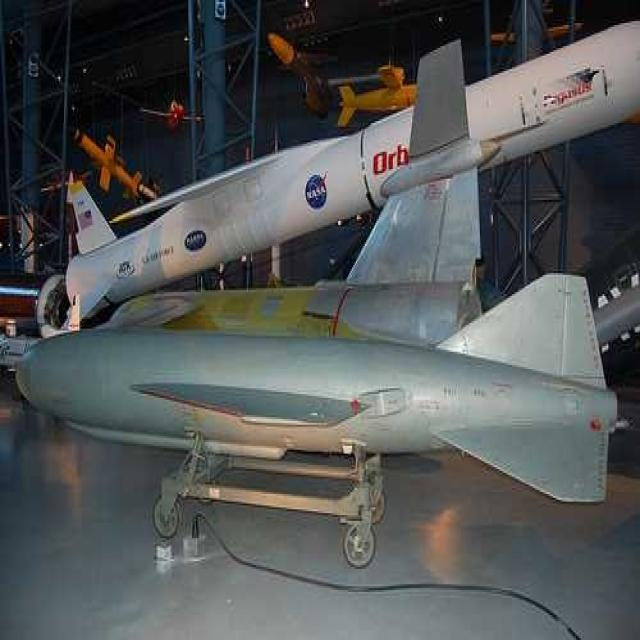missile: (50, 14, 640, 305), (16, 278, 619, 512)
